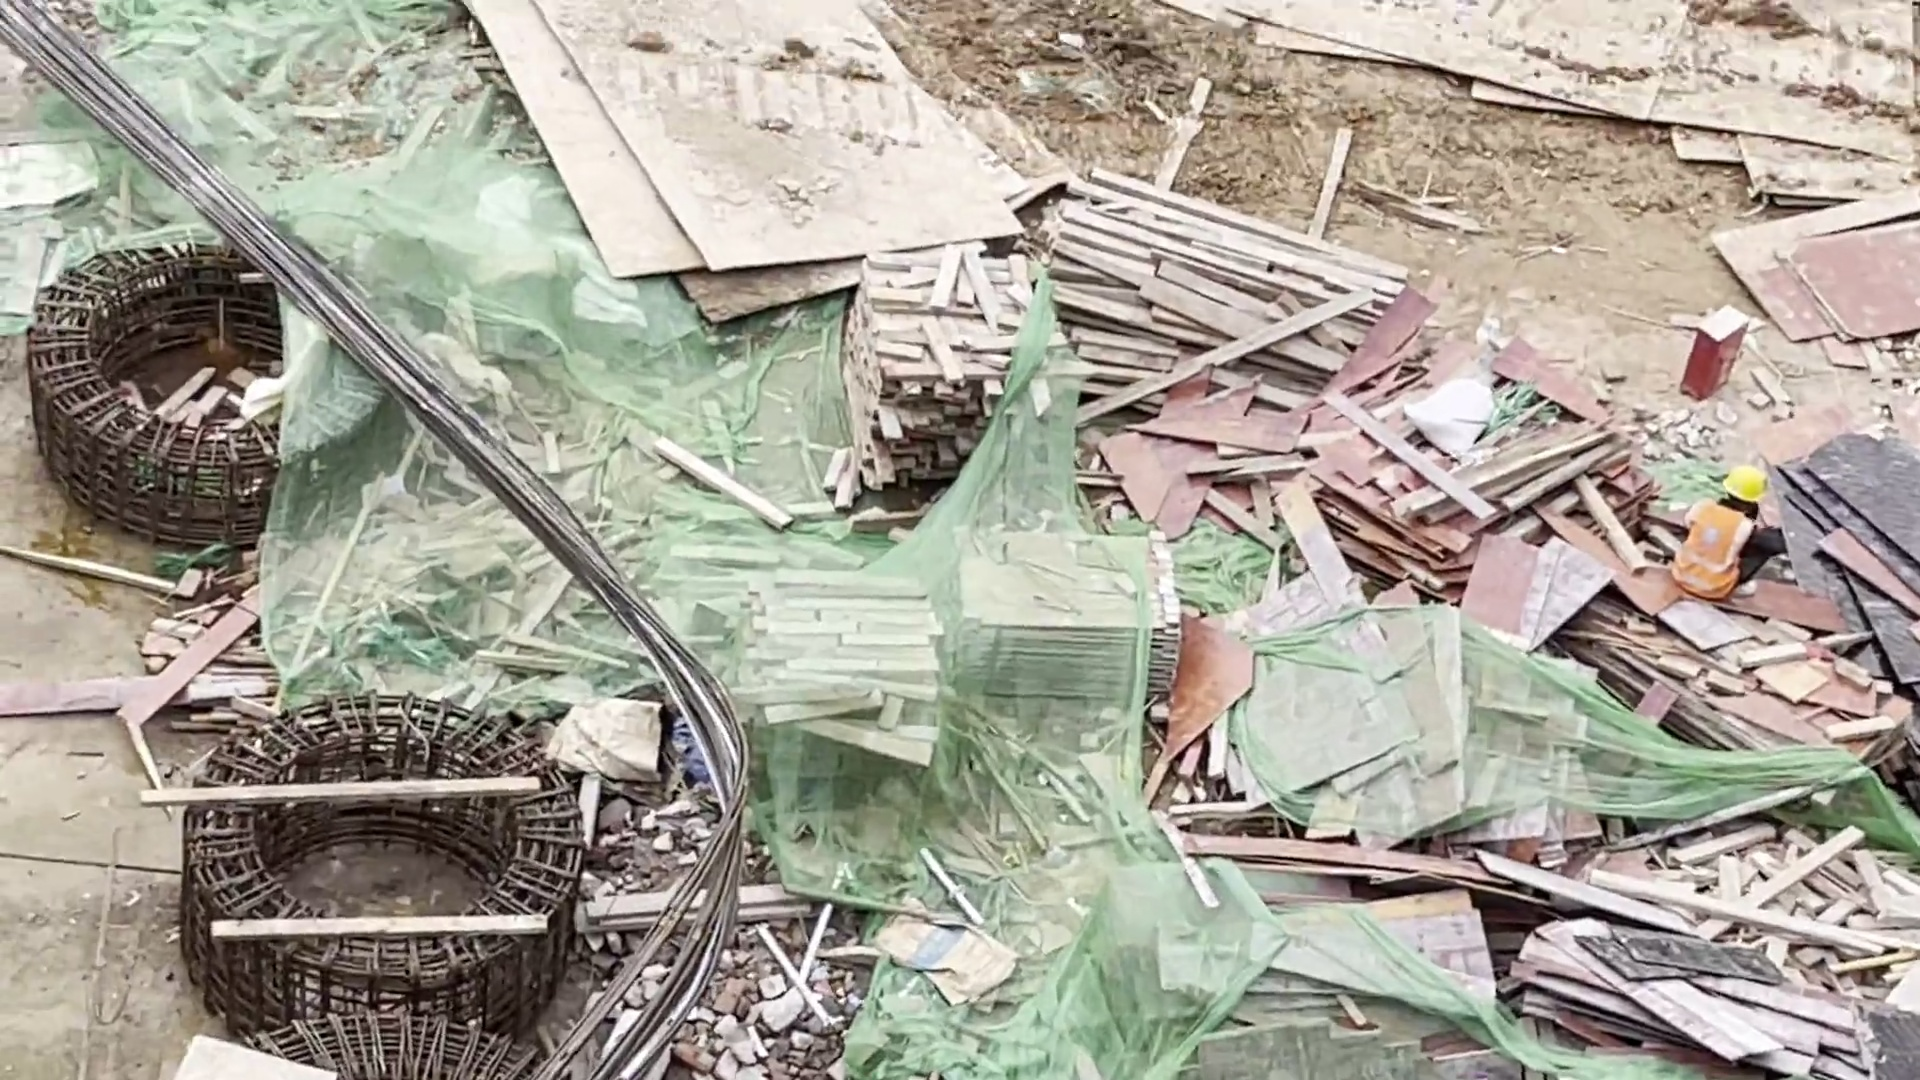helmet: (1723, 466, 1767, 500)
person: (1682, 463, 1777, 598)
vest: (1676, 498, 1750, 602)
wood: (759, 242, 1176, 749), (1058, 174, 1392, 402)
